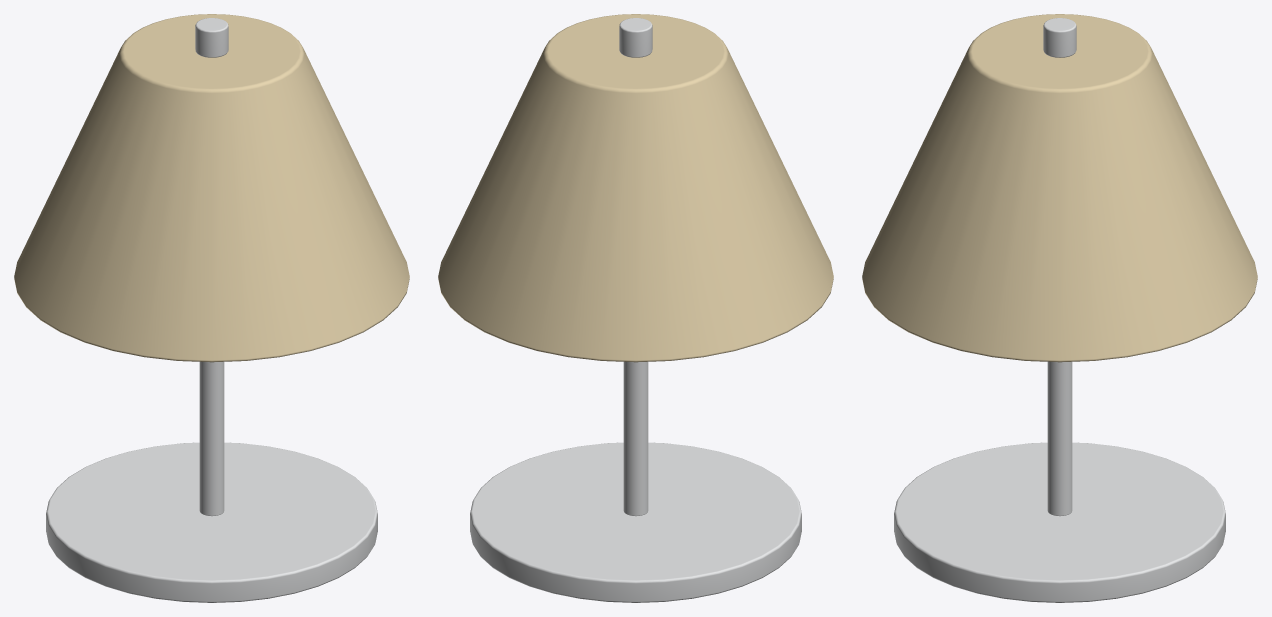
The model's file is lampe_table_spatial_decomposed.glb.
3 renders of one model, left to right at view 1: azimuth 30°, elevation 25°; view 2: azimuth 150°, elevation 25°; view 3: azimuth 270°, elevation 25°, orthographic.
Parts seen in each view (by area): view 1: Abat_Jour_Conique, Base_Platine, Tige_Centrale, Finial_Sommital; view 2: Abat_Jour_Conique, Base_Platine, Tige_Centrale, Finial_Sommital; view 3: Abat_Jour_Conique, Base_Platine, Tige_Centrale, Finial_Sommital.
Boxes of the visible parts, x1,y1,x2,y2 form: Abat_Jour_Conique: (14,14,409,362); Base_Platine: (46,442,377,602); Tige_Centrale: (199,361,224,516); Finial_Sommital: (195,18,228,57); Abat_Jour_Conique: (438,14,833,362); Base_Platine: (470,442,801,602); Tige_Centrale: (623,361,648,516); Finial_Sommital: (619,18,652,57); Abat_Jour_Conique: (862,14,1257,362); Base_Platine: (894,442,1225,602); Tige_Centrale: (1047,361,1072,516); Finial_Sommital: (1043,18,1076,57).
Size of the model in its own units: 0.2378 by 0.3379 by 0.2378.
